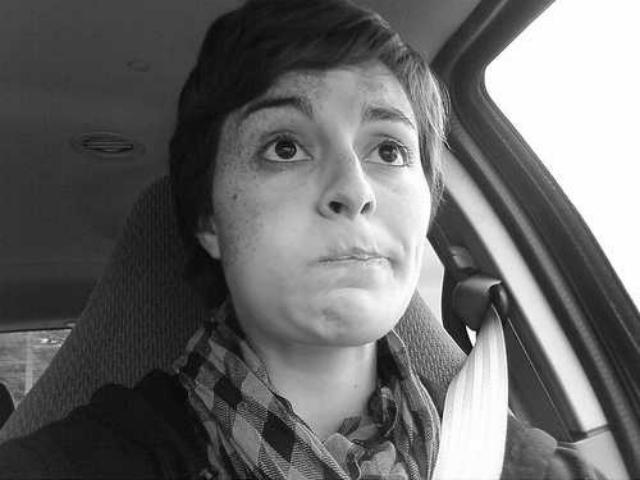SafeDriving: (243, 115, 322, 177), (355, 122, 420, 177)
Seatbelt: (424, 244, 516, 480)
